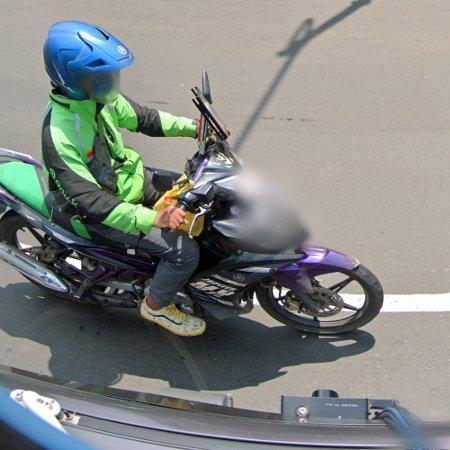motorcycles: (148, 71, 385, 334), (0, 149, 155, 307)
